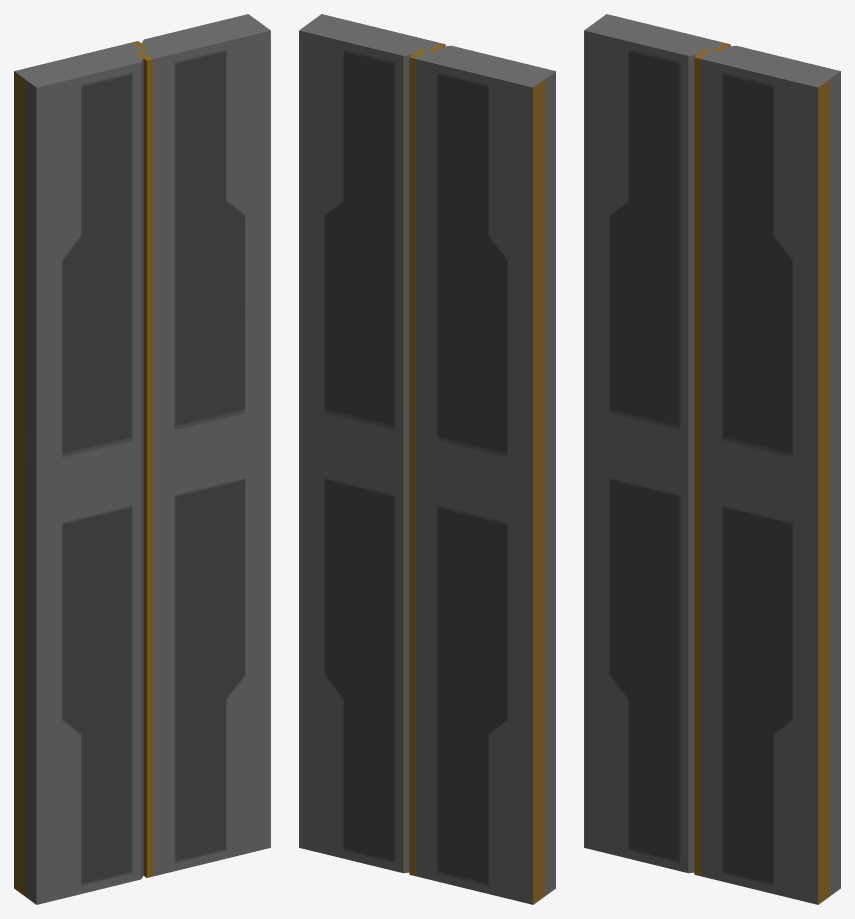
Rendered from door_interior1_closed.fbx.
3 renders of one model, left to right at view 1: azimuth 30°, elevation 25°; view 2: azimuth 150°, elevation 25°; view 3: azimuth 330°, elevation 25°, orthographic.
Visible parts, largest first — view 1: door_interior1_closed; view 2: door_interior1_closed; view 3: door_interior1_closed.
Part boxes in pixels (x1,y1,x2,y2): door_interior1_closed: [14, 14, 270, 904]; door_interior1_closed: [299, 14, 555, 904]; door_interior1_closed: [584, 14, 840, 904].
Size of the model in its own units: 0.6 by 2 by 0.1.
